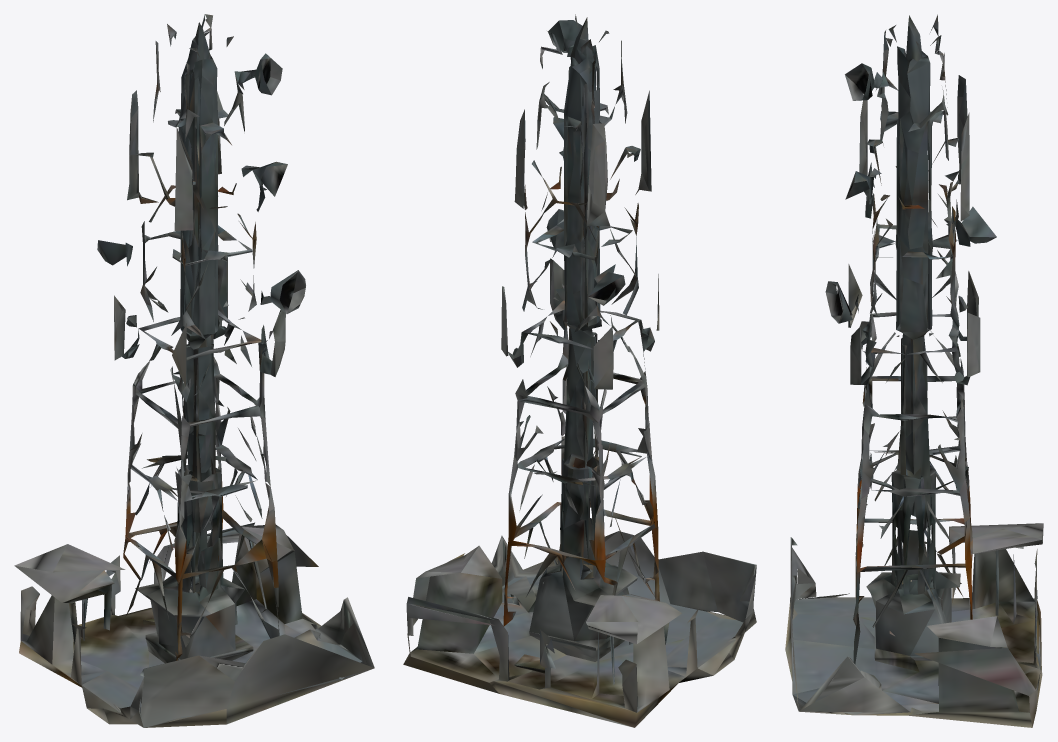
The model's file is tower_cell_lod2.glb.
The picture shows the model from 3 angles, left to right: view 1: azimuth 30°, elevation 25°; view 2: azimuth 150°, elevation 25°; view 3: azimuth 270°, elevation 25°; orthographic projection. The views are drawn at different scales.
Visible parts, largest first — view 1: tripo_node_df50972f; view 2: tripo_node_df50972f; view 3: tripo_node_df50972f.
Boxes of the visible parts, x1,y1,x2,y2 form: tripo_node_df50972f: (14,14,374,727); tripo_node_df50972f: (403,14,756,727); tripo_node_df50972f: (785,14,1043,727).
Size of the model in its own units: 37.14 by 93.37 by 33.46.
Materials: 1 (1 with a texture image).
